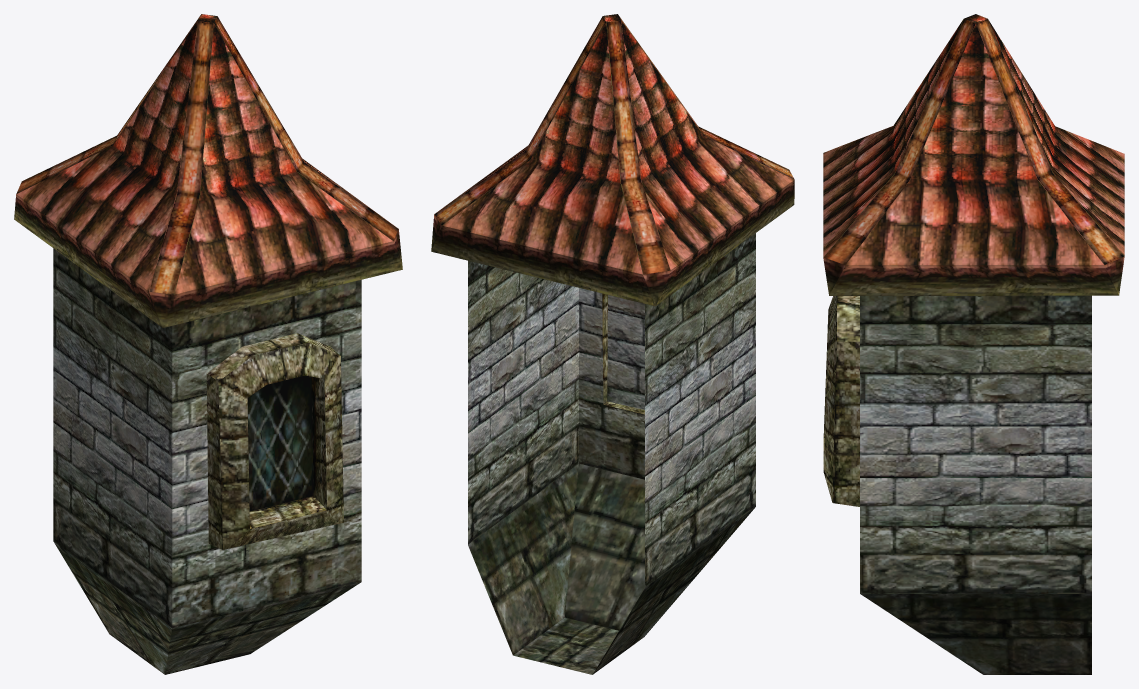
3 renders of one model, left to right at view 1: azimuth 30°, elevation 25°; view 2: azimuth 150°, elevation 25°; view 3: azimuth 270°, elevation 25°, orthographic. The views are drawn at different scales.
Visible parts, largest first — view 1: cc82; view 2: cc82; view 3: cc82.
Part boxes in pixels (x1,y1,x2,y2): cc82: (14, 14, 402, 674); cc82: (431, 14, 794, 674); cc82: (823, 14, 1124, 674).
Bounding box in the file's own units: 2.47 × 6.09 × 2.63.
Materials: 6 (6 with a texture image).
